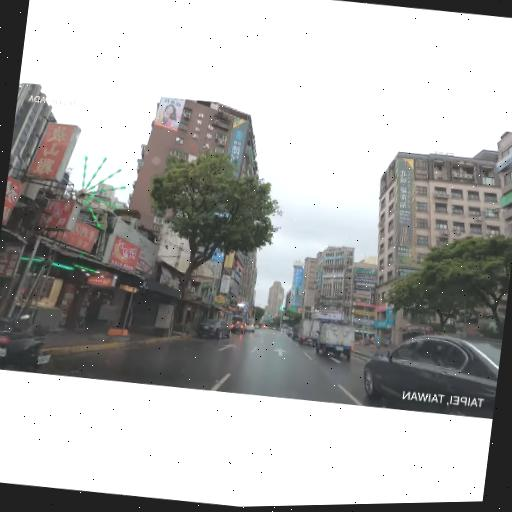Car: (360, 323, 502, 423), (316, 320, 358, 358), (198, 314, 233, 341), (297, 316, 322, 346), (291, 325, 305, 342), (230, 321, 246, 334), (243, 322, 256, 333), (286, 326, 295, 337), (279, 327, 288, 333), (254, 323, 260, 329), (262, 324, 268, 330), (272, 325, 275, 329)
